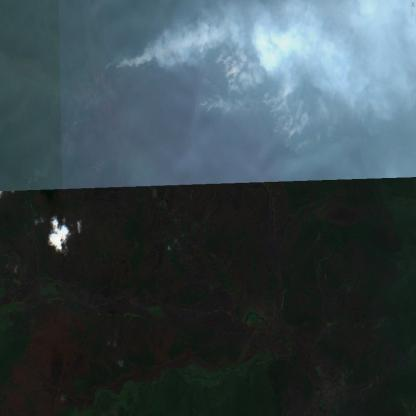fire: (64, 33, 298, 171)
